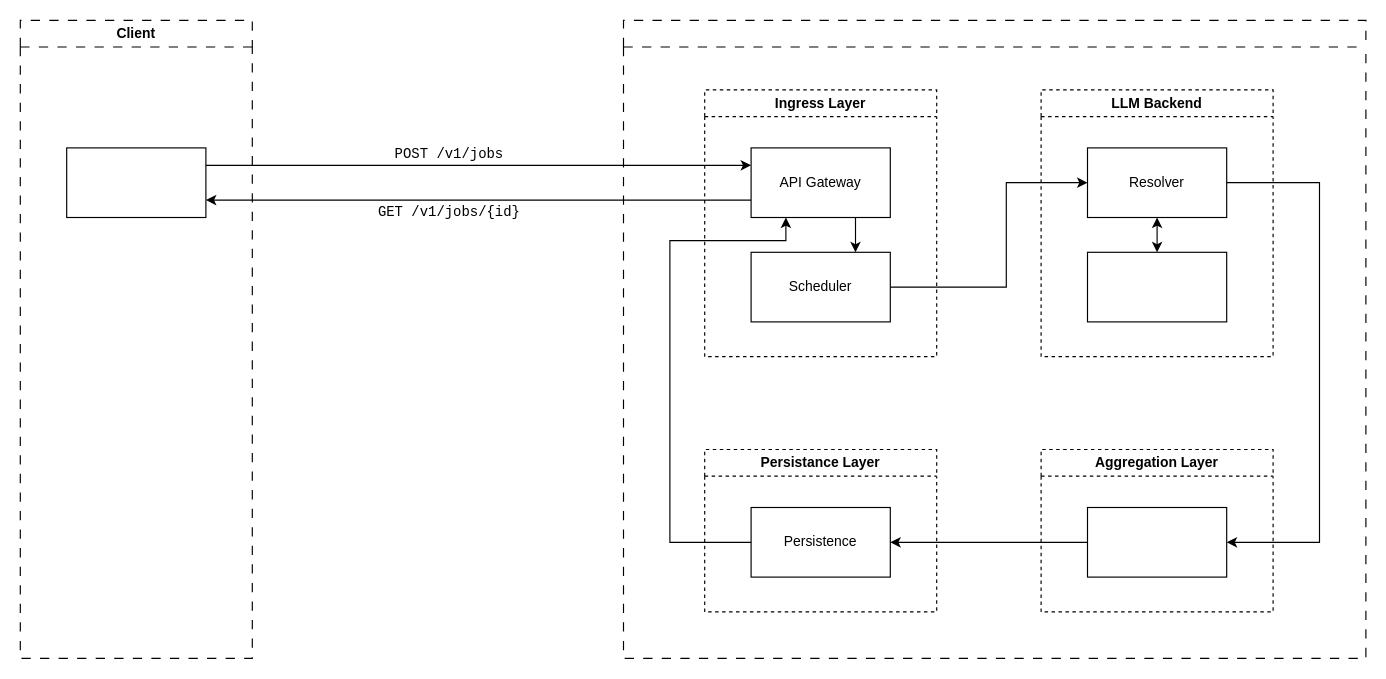
Image size: 1386x679. Some labels were removed from this diagram. The box of each missing label's shape, as (x1, y1, x2, y2) in pixels:
Aggregator: (1086, 506, 1227, 577)
Client Application: (66, 147, 206, 217)
Inference Workers: (1086, 251, 1227, 322)
Server: (622, 19, 1366, 658)
